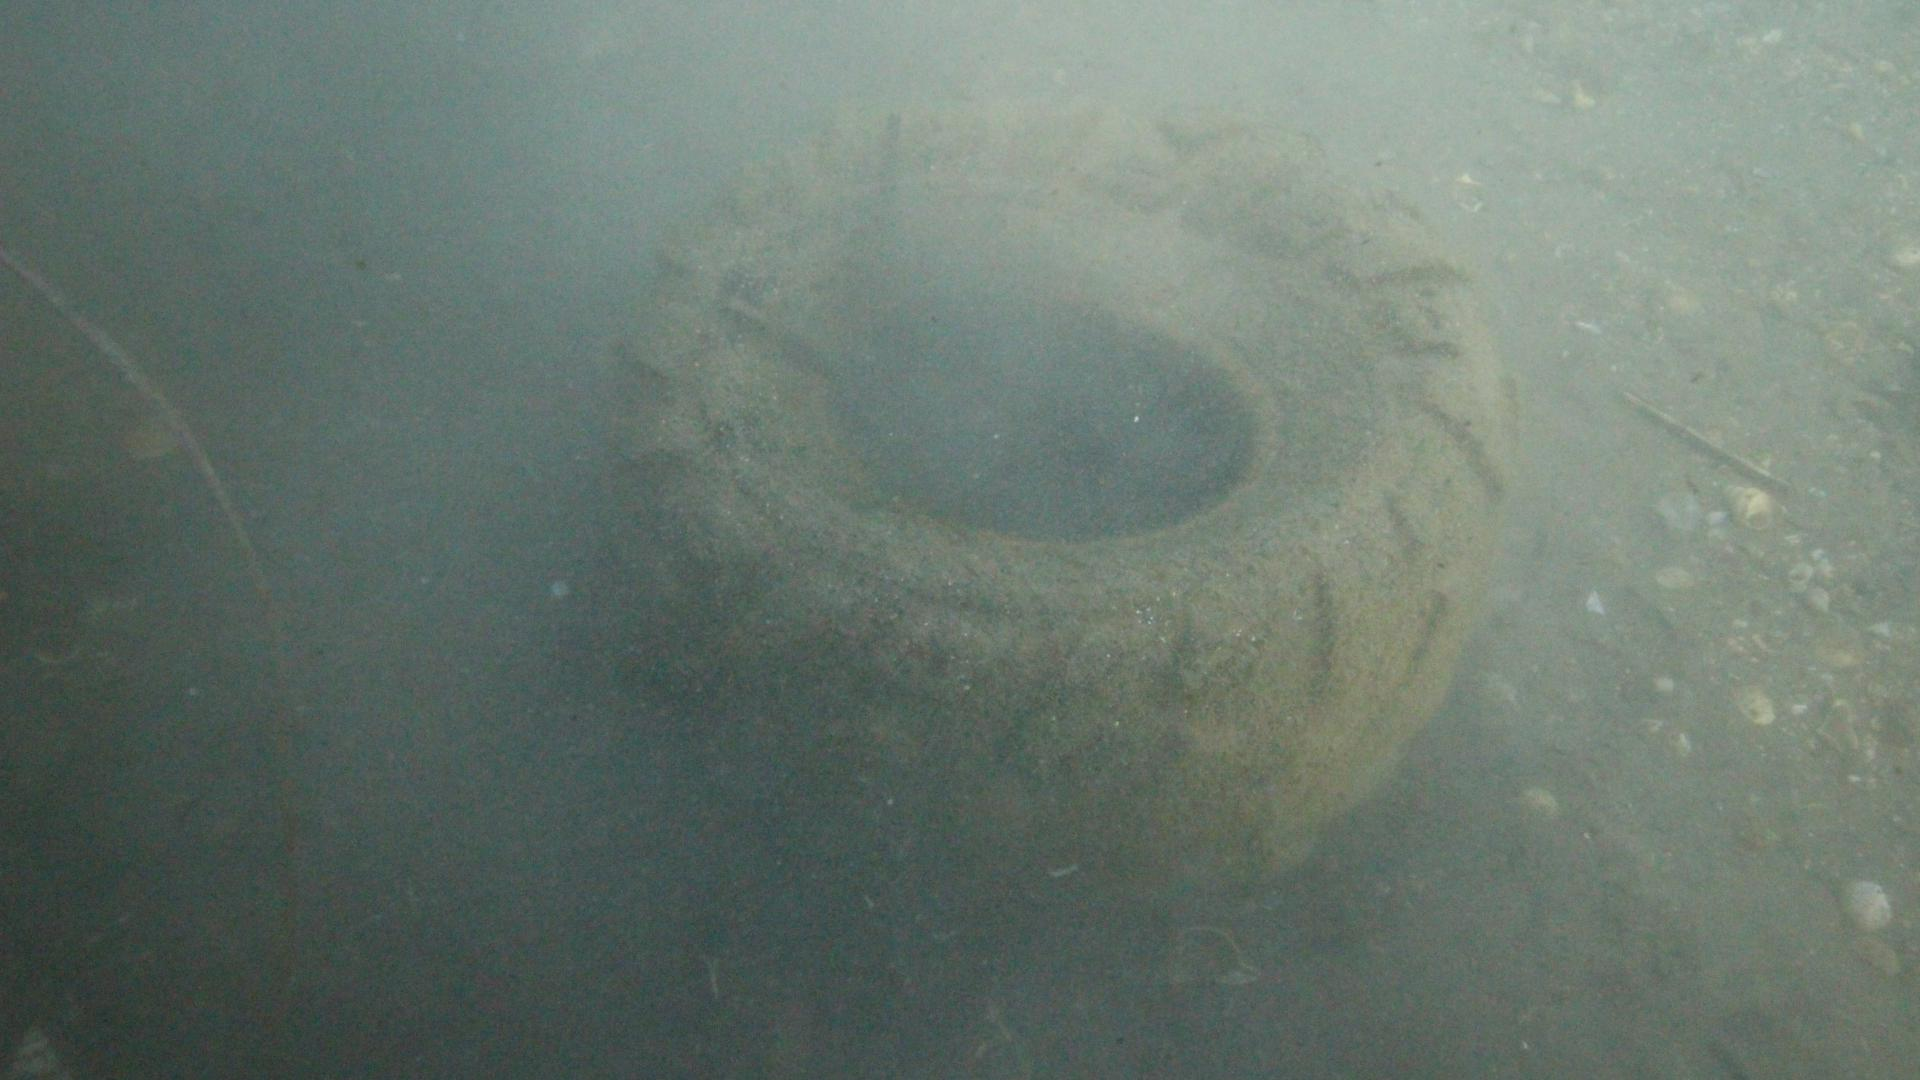tire: (601, 99, 1514, 873)
